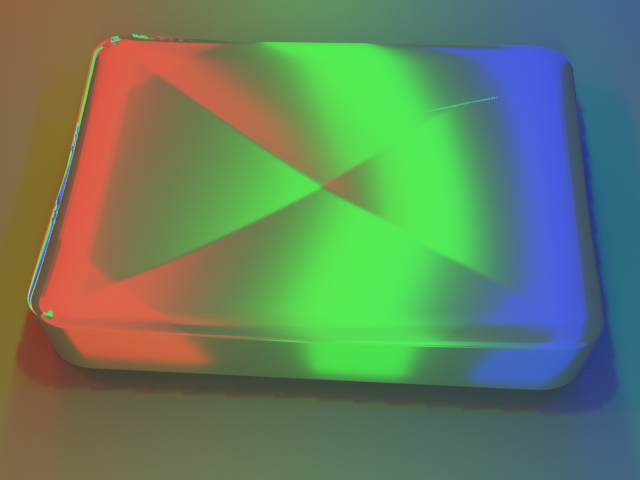scratch: (352, 20, 610, 164)
smash: (0, 0, 639, 479)
